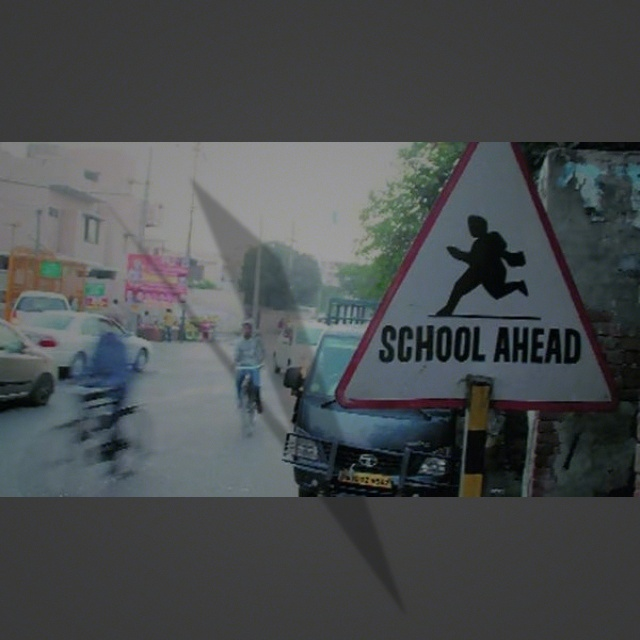School_Ahead: (364, 169, 601, 386)
